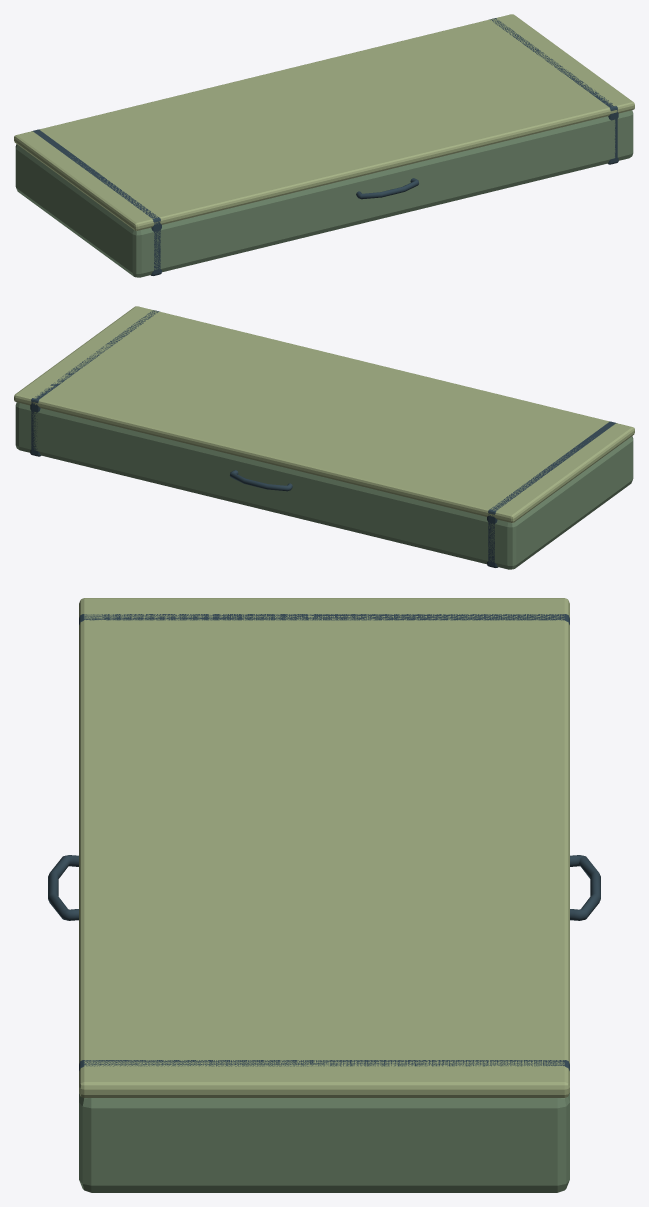
File: crate.glb
3 renders of one model, top to bottom at view 1: azimuth 30°, elevation 25°; view 2: azimuth 150°, elevation 25°; view 3: azimuth 270°, elevation 25°, orthographic. The views are drawn at different scales.
Parts seen in each view (by area): view 1: tyaga-crate-surface; view 2: tyaga-crate-surface; view 3: tyaga-crate-surface.
Part boxes in pixels (box(x1,y1,x2,y2)): tyaga-crate-surface: box(14, 14, 634, 277); tyaga-crate-surface: box(14, 306, 634, 569); tyaga-crate-surface: box(48, 598, 600, 1192).
Bounding box in the file's own units: 4.6 × 0.5 × 2.2.
